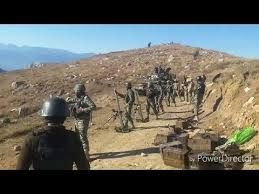uniform: (21, 95, 89, 177), (70, 82, 98, 150), (118, 76, 138, 131), (188, 73, 207, 120), (142, 71, 159, 118), (163, 74, 177, 106), (176, 73, 190, 104)
